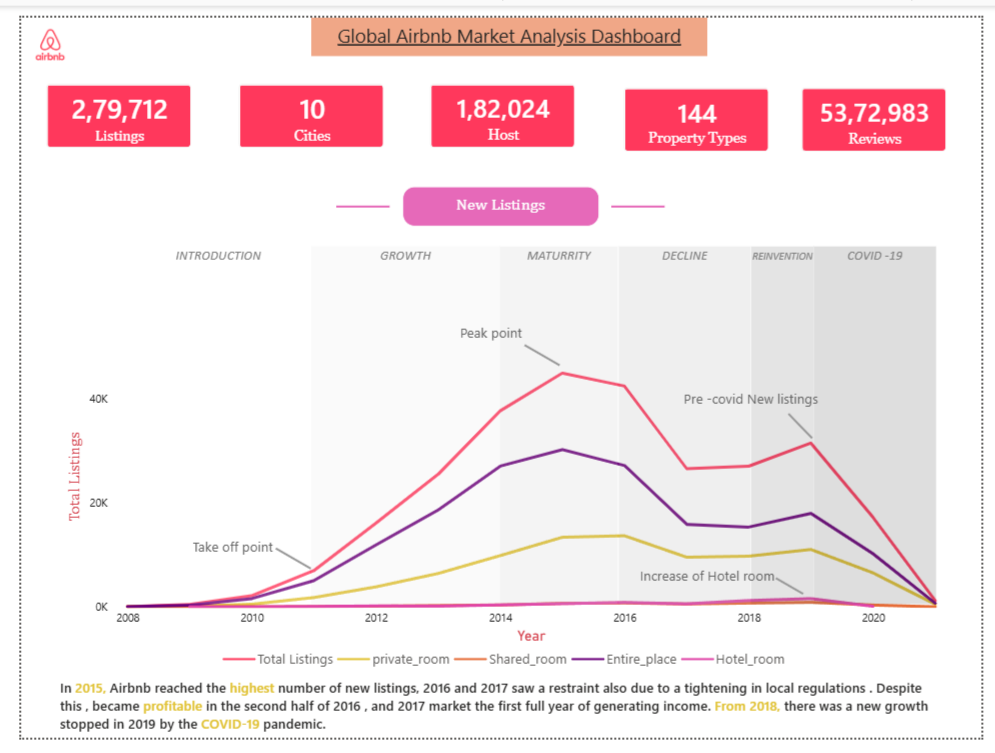

This screenshot's page, from the dashboard's own definition file:
{"tool":"powerbi","page":{"name":"Overview","canvas":[960,720],"ordinal":0},"visuals":[{"type":"textbox","box":[10,0,280,280],"z":0},{"type":"textbox","box":[290,0,396.2,38.8],"z":1000},{"type":"image","box":[0,0,58,61],"z":2000},{"type":"cardVisual","fields":{"Data":["CountNonNull(Listings.listing_id)"]},"box":[20,61.1,155,74],"z":3000},{"type":"cardVisual","fields":{"Data":["Count(Reviews.review_id)"]},"box":[775.6,64.4,155,74],"z":4000},{"type":"cardVisual","fields":{"Data":["Listings.Host"]},"box":[403.3,61.1,155,74],"z":5000},{"type":"cardVisual","fields":{"Data":["Count(Listings.city)"]},"box":[212.2,61.1,155,74],"z":6000},{"type":"cardVisual","fields":{"Data":["Count(Listings.property_type)"]},"box":[597.8,64.4,155,74],"z":7000},{"type":"lineChart","title":"New Listings","fields":{"Category":["Listings.host_since.Variation.Date Hierarchy.Year"],"Y":["Count(Listings.listing_id)","Listings.private_room","Listings.Shared_room","Listings.Entire_place","Listings.Hotel_room"]},"box":[40,314.4,891.1,345.6],"z":8000},{"type":"textbox","box":[381.7,168.9,196.7,40],"z":9000},{"type":"shape","box":[314.4,174.4,53.3,27.8],"z":10000},{"type":"shape","box":[590,174.4,53.3,27.8],"z":11000},{"type":"shape","box":[105.6,228.9,184.4,357.8],"z":12000},{"type":"shape","box":[597.8,228.9,132.2,357.8],"z":13000},{"type":"shape","box":[290,228.9,188.9,357.8],"z":14000},{"type":"shape","box":[730,228.9,62.2,357.8],"z":15000},{"type":"shape","box":[792.2,228.9,122.2,357.8],"z":16000},{"type":"shape","box":[478.9,228.9,117.8,357.8],"z":17000},{"type":"shape","box":[155.6,487.8,113.3,81.1],"z":18000},{"type":"shape","box":[253.3,512.2,36.7,56.7],"z":19000},{"type":"shape","box":[413.3,298.9,112.2,31.1],"z":20000},{"type":"shape","box":[502.2,322.2,36.7,30],"z":21000},{"type":"shape","box":[657.8,360,144.4,42.2],"z":22000},{"type":"shape","box":[766.7,380,25.6,56.7],"z":23000},{"type":"shape","box":[611.1,540,150,35.6],"z":24000},{"type":"shape","box":[753.3,540,28.9,56.7],"z":25000},{"type":"textbox","box":[33.3,656.7,893.3,63.3],"z":26000}]}

Visuals, with their boxes in screenshot pixels (x1, y1, x2, y2), scaled from the page's 960x720 canvas onto the 995x753 screenshot:
textbox: <box>10,0,301,293</box>
textbox: <box>301,0,711,41</box>
image: <box>0,0,60,64</box>
cardVisual - CountNonNull(Listings.listing_id): <box>21,64,181,141</box>
cardVisual - Count(Reviews.review_id): <box>804,67,965,145</box>
cardVisual - Listings.Host: <box>418,64,579,141</box>
cardVisual - Count(Listings.city): <box>220,64,381,141</box>
cardVisual - Count(Listings.property_type): <box>620,67,780,145</box>
"New Listings" lineChart: <box>41,329,965,690</box>
textbox: <box>396,177,599,218</box>
shape: <box>326,182,381,211</box>
shape: <box>612,182,667,211</box>
shape: <box>109,239,301,614</box>
shape: <box>620,239,757,614</box>
shape: <box>301,239,496,614</box>
shape: <box>757,239,821,614</box>
shape: <box>821,239,948,614</box>
shape: <box>496,239,618,614</box>
shape: <box>161,510,279,595</box>
shape: <box>263,536,301,595</box>
shape: <box>428,313,545,345</box>
shape: <box>521,337,559,368</box>
shape: <box>682,376,831,421</box>
shape: <box>795,397,821,457</box>
shape: <box>633,565,789,602</box>
shape: <box>781,565,811,624</box>
textbox: <box>35,687,960,752</box>
